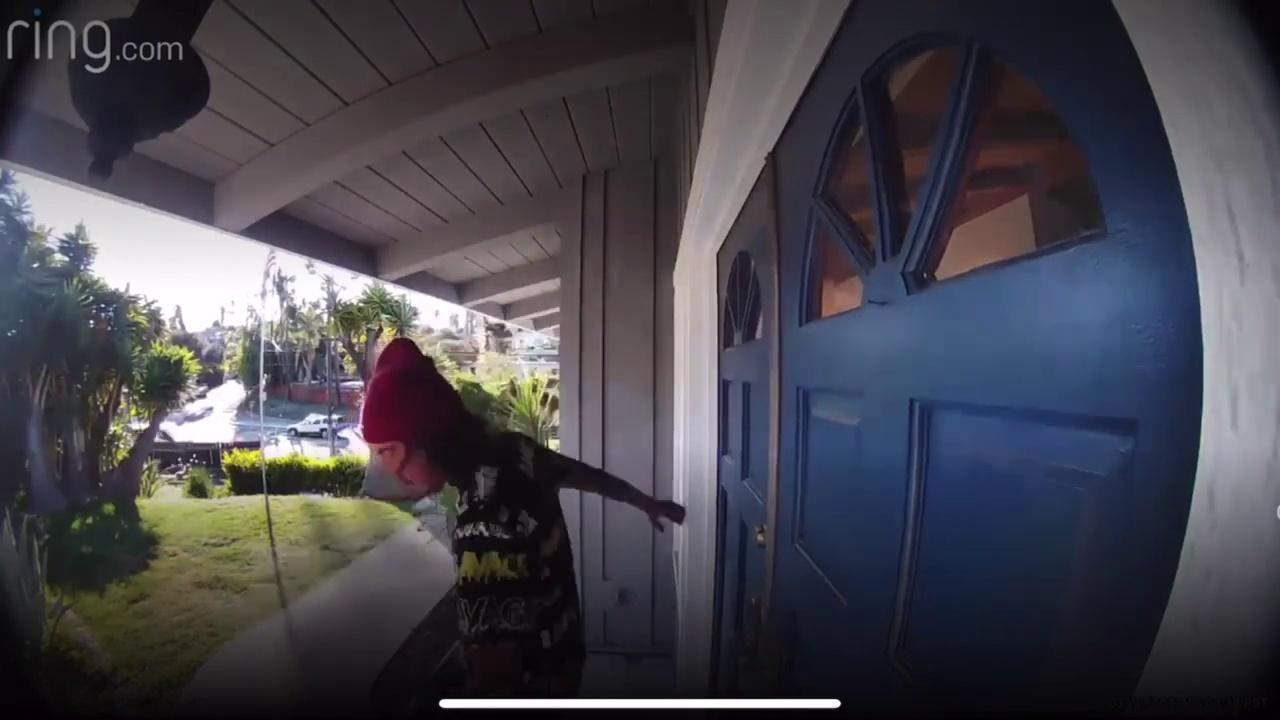suspicion: (318, 314, 710, 720)
